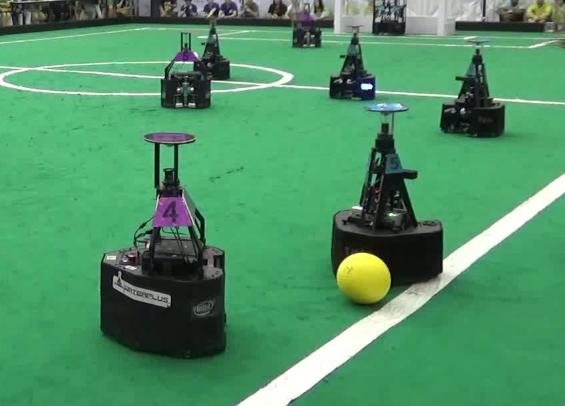robot: (92, 130, 233, 361), (327, 103, 446, 286), (438, 38, 510, 139), (158, 26, 213, 109), (325, 23, 379, 102)
